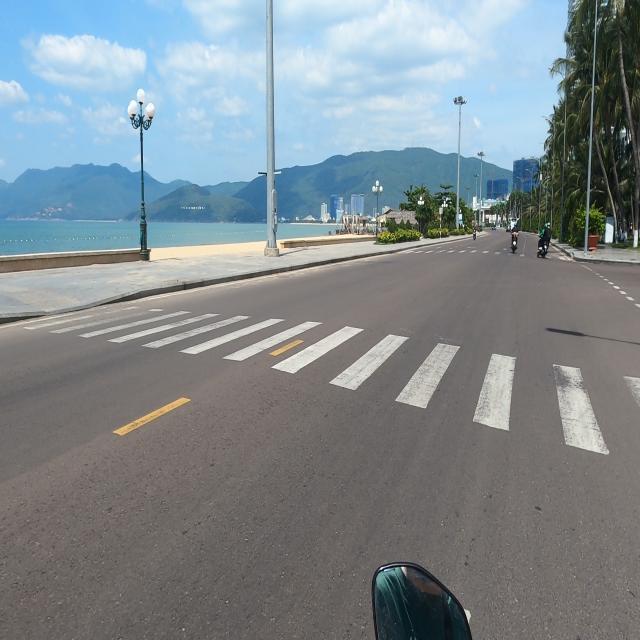walk-crossing: (19, 301, 640, 456)
